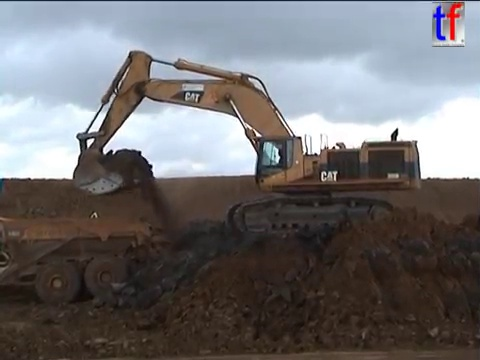excavator: (69, 46, 424, 240)
truck: (1, 213, 155, 306)
worker: (87, 206, 99, 229)
